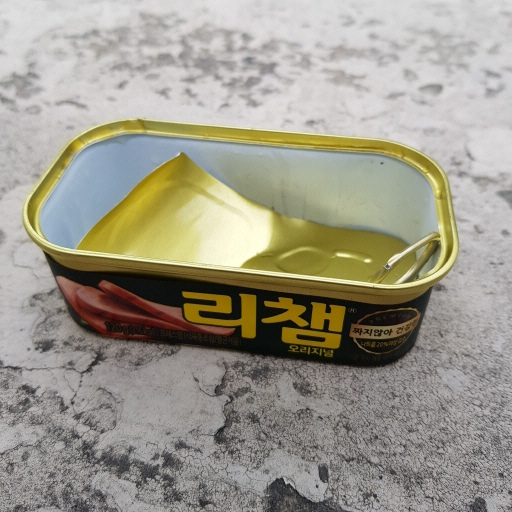Metal_2: (26, 112, 462, 368)
